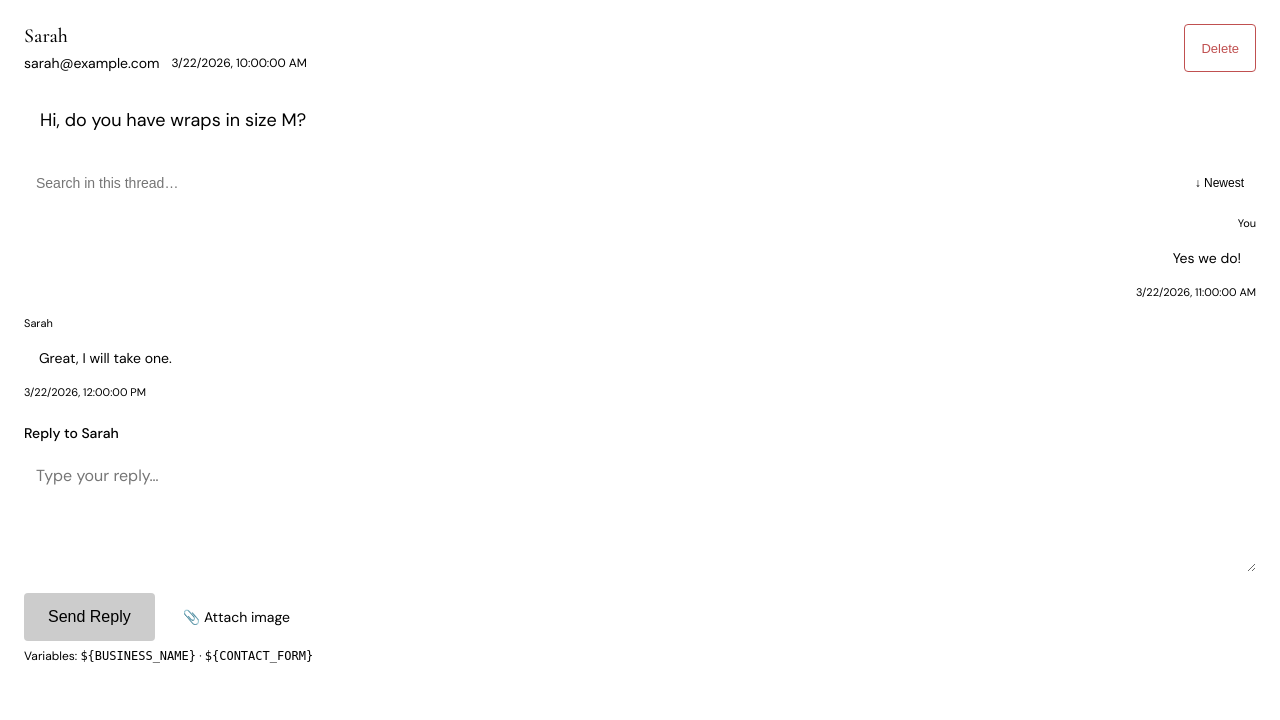
Test: ThreadView › shows send confirmation when Send Reply clicked
Type "Thanks!" into the text box with placeholder "Type your reply…" at (640, 512), box [24,452,1256,572]
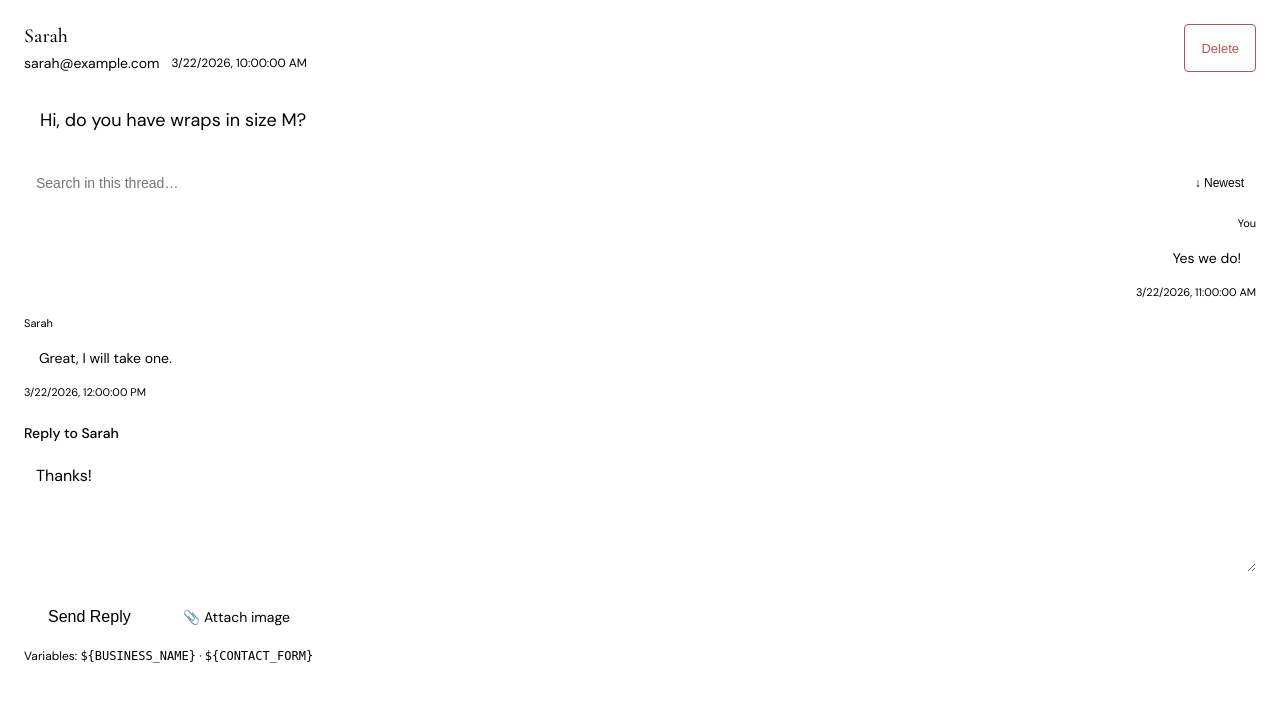
Click the button "Send Reply" at (89, 617), box [24,593,155,641]
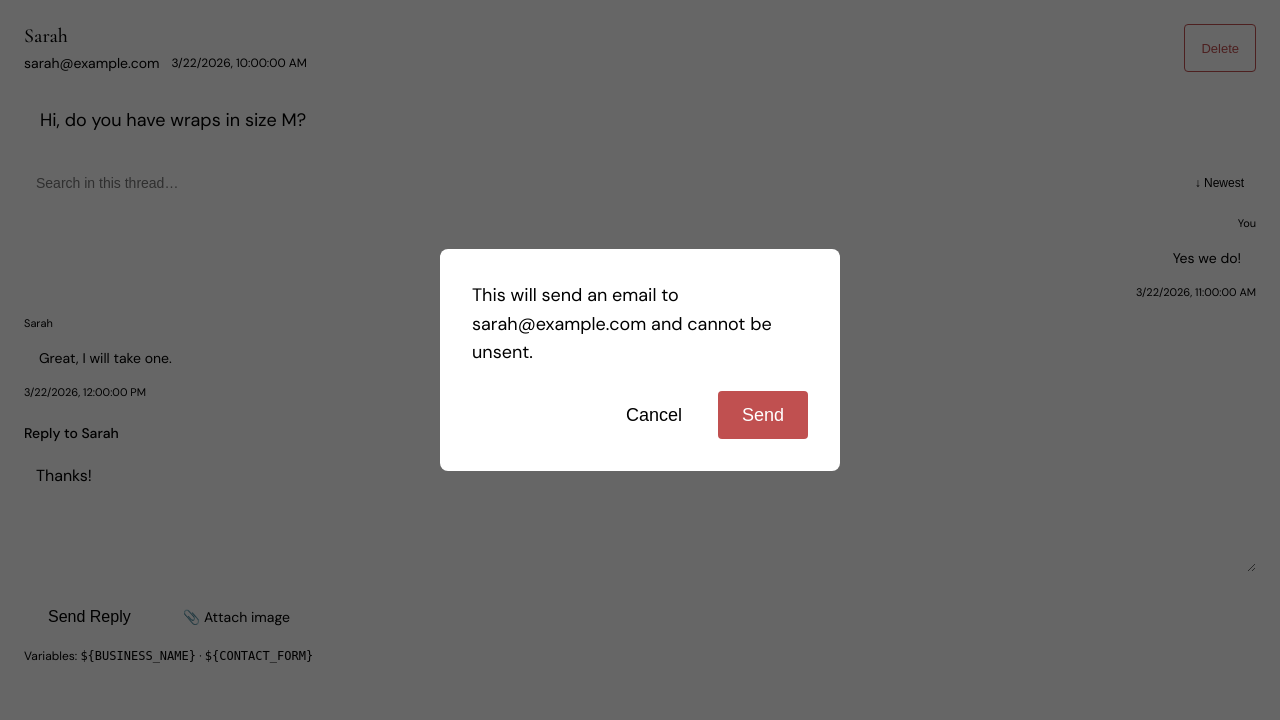
Check: the text "sarah@example.com" is shown, box [24,52,160,74]
Check: the dialog is shown, box [440,249,840,471]
